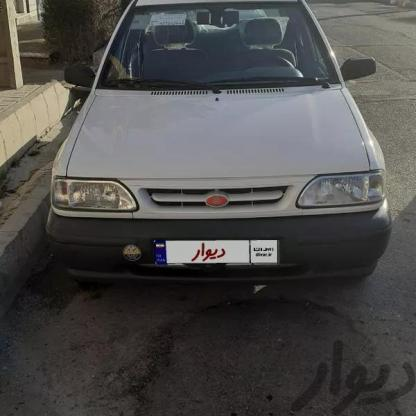Car: (53, 0, 396, 308)
